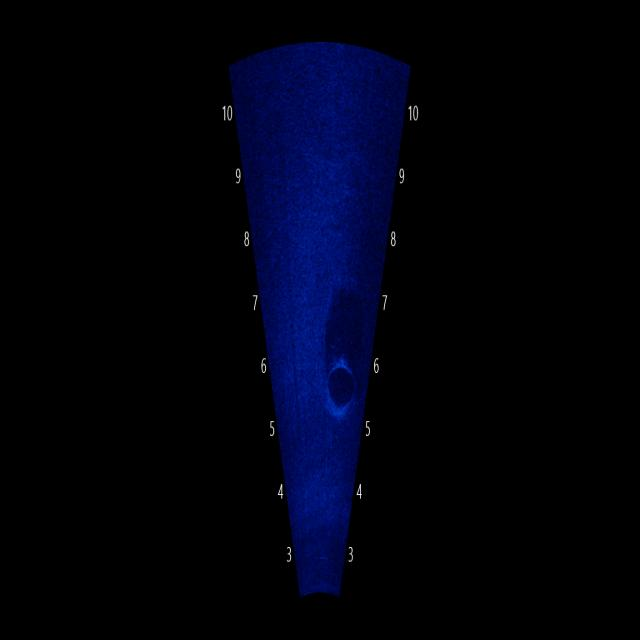circle: (315, 336, 364, 435)
